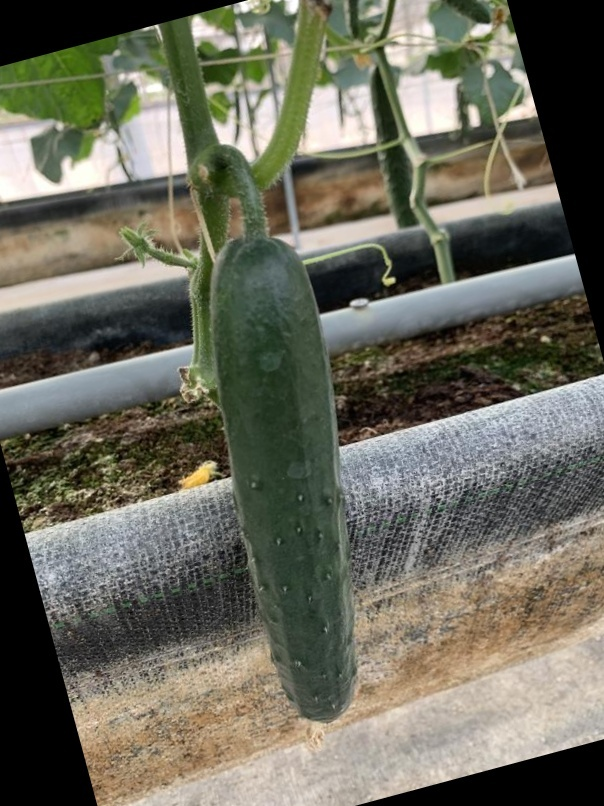mature: (204, 243, 361, 742)
